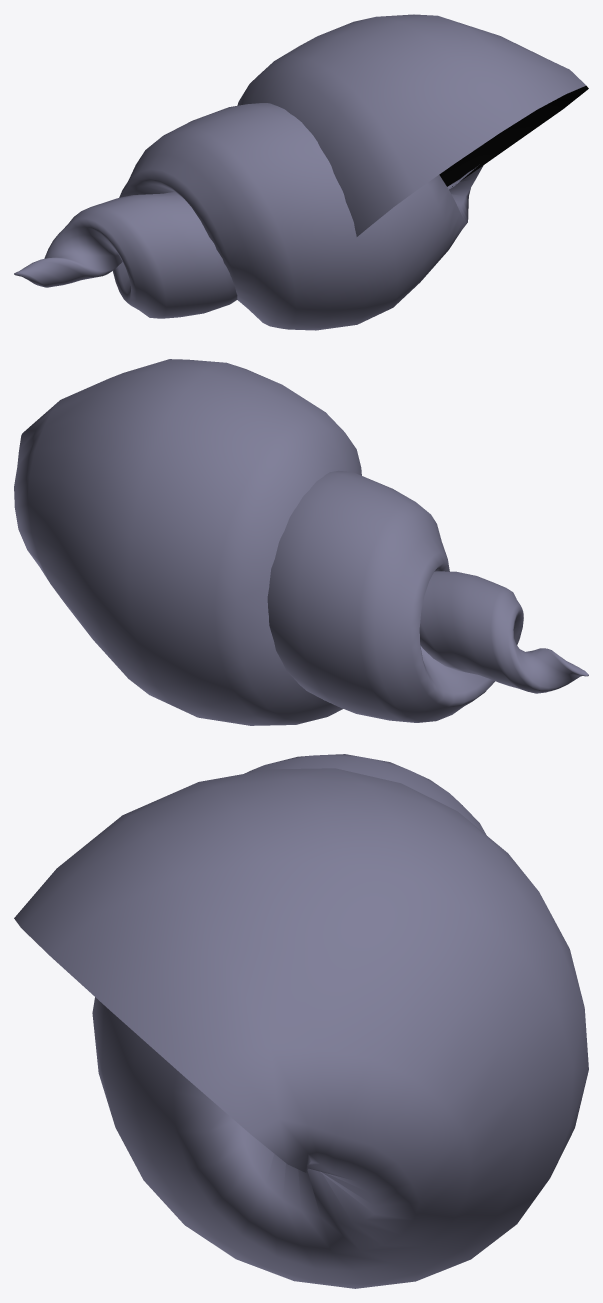
The model's file is Makigai2.fbx.
3 renders of one model, top to bottom at view 1: azimuth 30°, elevation 25°; view 2: azimuth 150°, elevation 25°; view 3: azimuth 270°, elevation 25°, orthographic. The views are drawn at different scales.
Visible parts, largest first — view 1: Spiral; view 2: Spiral; view 3: Spiral.
Part boxes in pixels (<box>): Spiral: <box>14,14,588,330</box>; Spiral: <box>14,359,588,725</box>; Spiral: <box>14,754,588,1288</box>.
Bounding box in the file's own units: 14.75 × 7.18 × 7.28.
